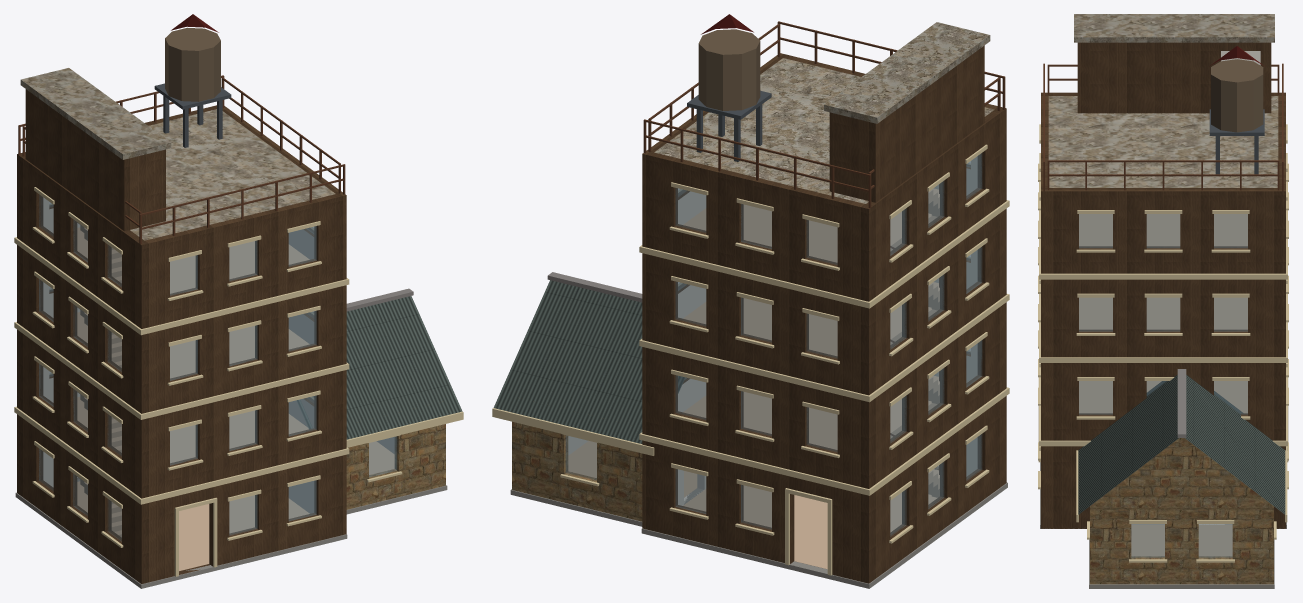
File: rw-lookout-house.towns-v1.lod0.glb
3 views of the same model, side by side, from view 1: azimuth 30°, elevation 25°; view 2: azimuth 150°, elevation 25°; view 3: azimuth 270°, elevation 25° (orthographic). The views are drawn at different scales.
Visible parts, largest first — view 1: rw-lookout-house; view 2: rw-lookout-house; view 3: rw-lookout-house.
Part boxes in pixels (x1,y1,x2,y2): rw-lookout-house: (14, 14, 463, 588); rw-lookout-house: (492, 14, 1009, 588); rw-lookout-house: (1038, 14, 1288, 588).
Bounding box in the file's own units: 12.74 × 16.45 × 8.18.
Materials: 8 (4 with a texture image).
